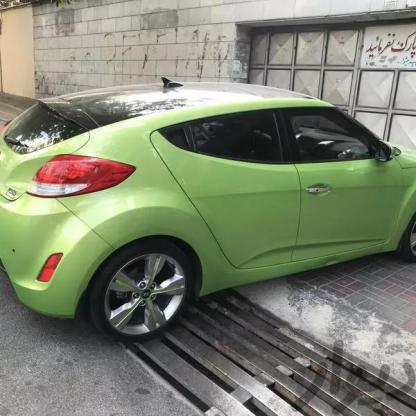Car: (0, 75, 416, 324)
